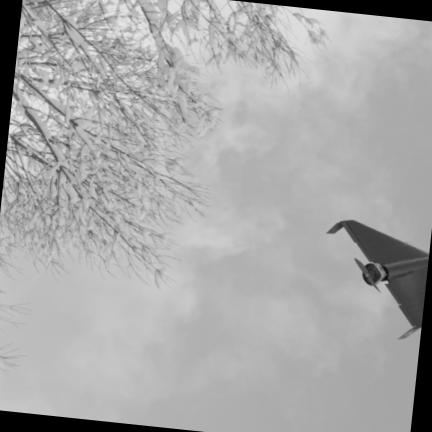Shahed: (326, 221, 429, 339)
